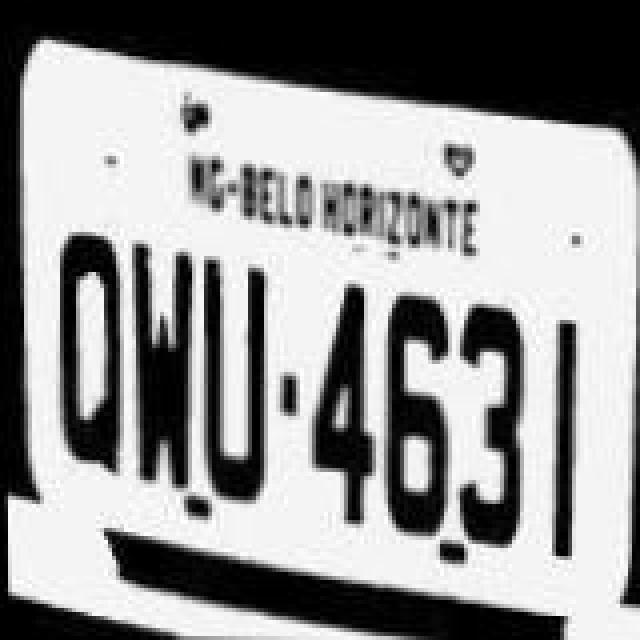1: (544, 306, 608, 574)
3: (456, 294, 540, 558)
4: (306, 262, 386, 542)
6: (374, 278, 462, 546)
Q: (40, 226, 136, 494)
U: (192, 238, 280, 514)
W: (124, 230, 204, 502)
